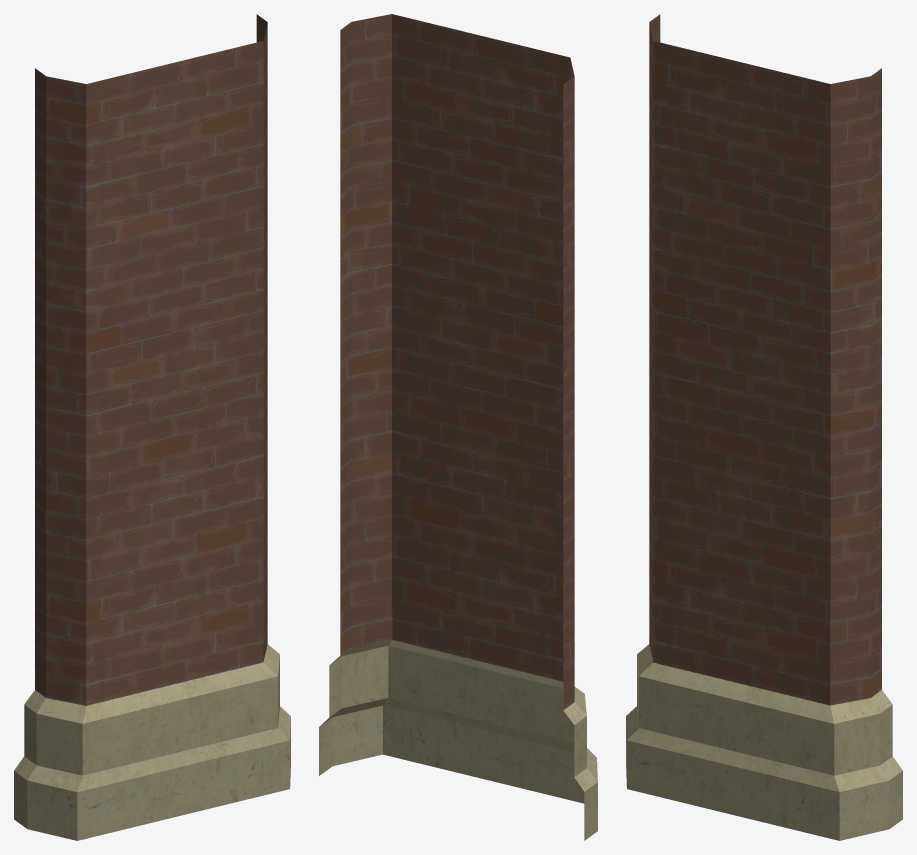
File: Brick_HalfColumn_Bottom.gltf
3 renders of one model, left to right at view 1: azimuth 30°, elevation 25°; view 2: azimuth 150°, elevation 25°; view 3: azimuth 330°, elevation 25°, orthographic.
Parts seen in each view (by area): view 1: Brick_HalfColumn_Bottom; view 2: Brick_HalfColumn_Bottom; view 3: Brick_HalfColumn_Bottom.
Part boxes in pixels (<box>): Brick_HalfColumn_Bottom: <box>14,14,290,840</box>; Brick_HalfColumn_Bottom: <box>319,14,597,840</box>; Brick_HalfColumn_Bottom: <box>626,14,902,840</box>.
Bounding box in the file's own units: 1.11 × 3 × 0.2763.
2 materials, 2 textured.
